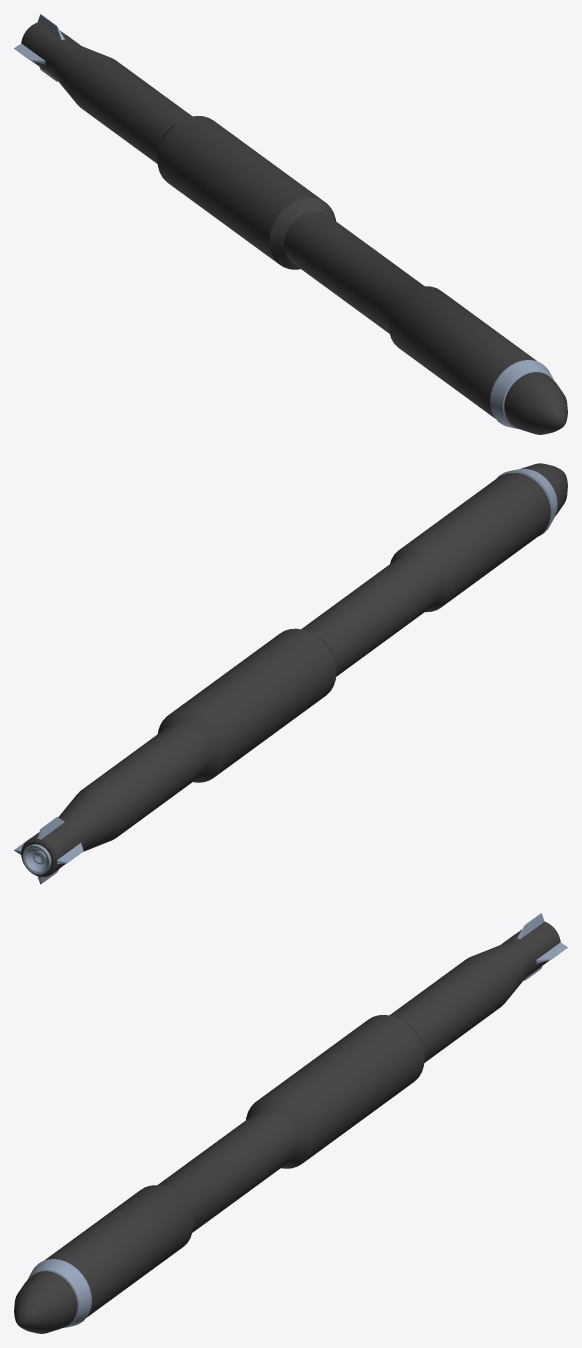
File: Missile.fbx
3 renders of one model, top to bottom at view 1: azimuth 30°, elevation 25°; view 2: azimuth 150°, elevation 25°; view 3: azimuth 330°, elevation 25°, orthographic.
Visible parts, largest first — view 1: Type A; view 2: Type A; view 3: Type A.
Boxes of the visible parts, x1,y1,x2,y2 form: Type A: (14,14,567,434); Type A: (14,463,567,884); Type A: (14,913,567,1333).
Size of the model in its own units: 21.59 by 21.6 by 294.
